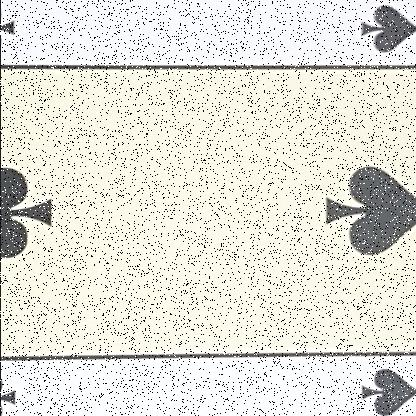2s: (343, 0, 415, 77), (342, 357, 415, 416)
